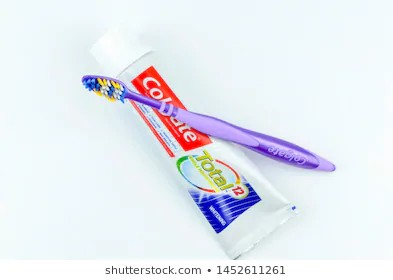colgate-total-150gm: (91, 19, 305, 255)
toothbrush: (76, 73, 344, 174)
